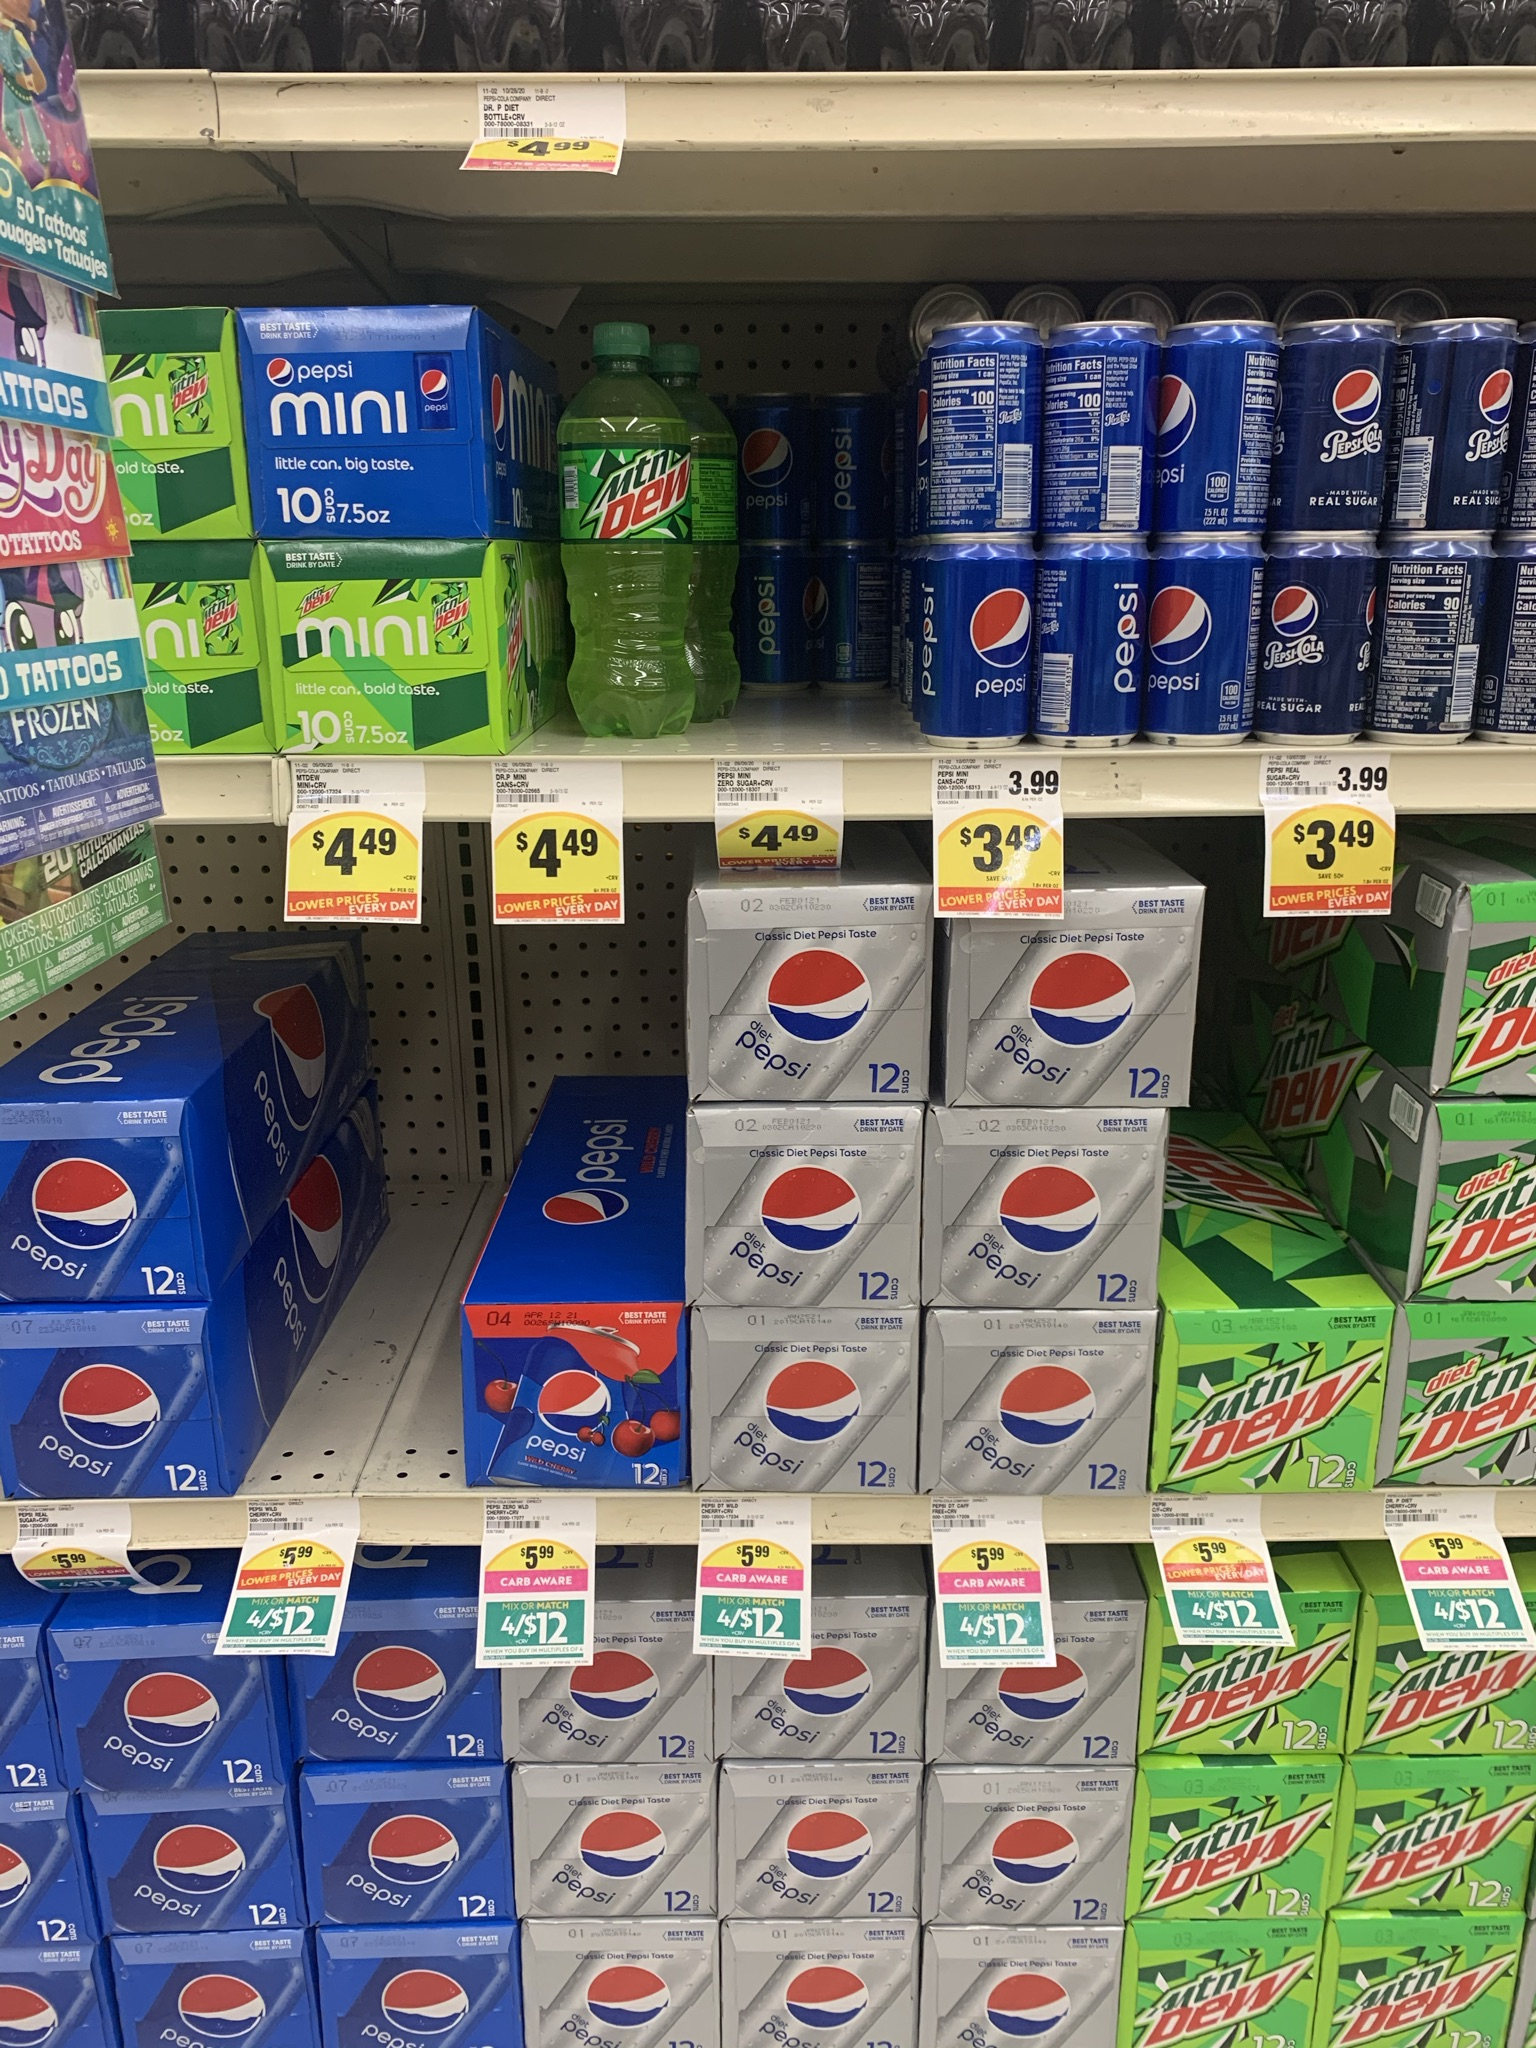box: (252, 305, 484, 542), (952, 885, 1183, 1089), (684, 1308, 925, 1498), (2, 1098, 205, 1322), (465, 1293, 684, 1500), (705, 897, 918, 1106), (71, 1601, 286, 1804), (286, 558, 495, 756), (941, 1113, 1155, 1301), (1175, 1309, 1376, 1500), (11, 1322, 219, 1505), (695, 1118, 915, 1288), (939, 1317, 1142, 1498), (925, 1766, 1141, 1930), (297, 1779, 520, 1937), (294, 1600, 503, 1767), (718, 1606, 931, 1764), (505, 1609, 708, 1774), (1342, 1758, 1536, 1916), (508, 1780, 721, 1922), (724, 1774, 921, 1922), (92, 1804, 298, 1945), (949, 1613, 1121, 1764), (918, 1921, 1113, 2048), (539, 1917, 726, 2048), (728, 1932, 920, 2046), (1352, 1930, 1517, 2048)
can: (1407, 335, 1504, 527), (936, 343, 1031, 522), (1173, 343, 1263, 527), (1294, 339, 1375, 531), (1404, 556, 1483, 742), (1163, 560, 1246, 732), (942, 555, 1018, 740), (1066, 331, 1134, 534), (1055, 560, 1131, 740), (1284, 560, 1355, 742), (828, 408, 887, 542), (753, 556, 812, 692), (744, 408, 805, 535), (831, 564, 884, 692)
